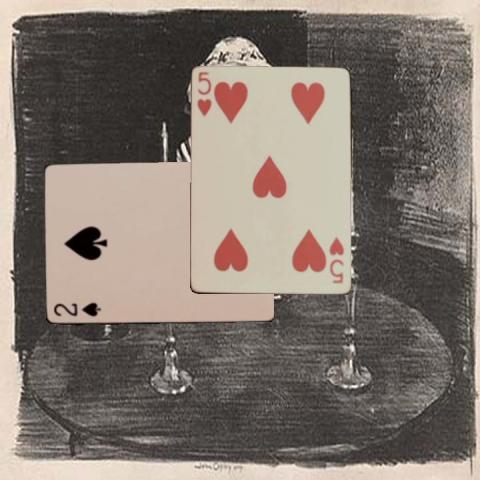2s: (50, 300, 102, 319)
5h: (327, 234, 346, 285), (195, 68, 213, 118)
